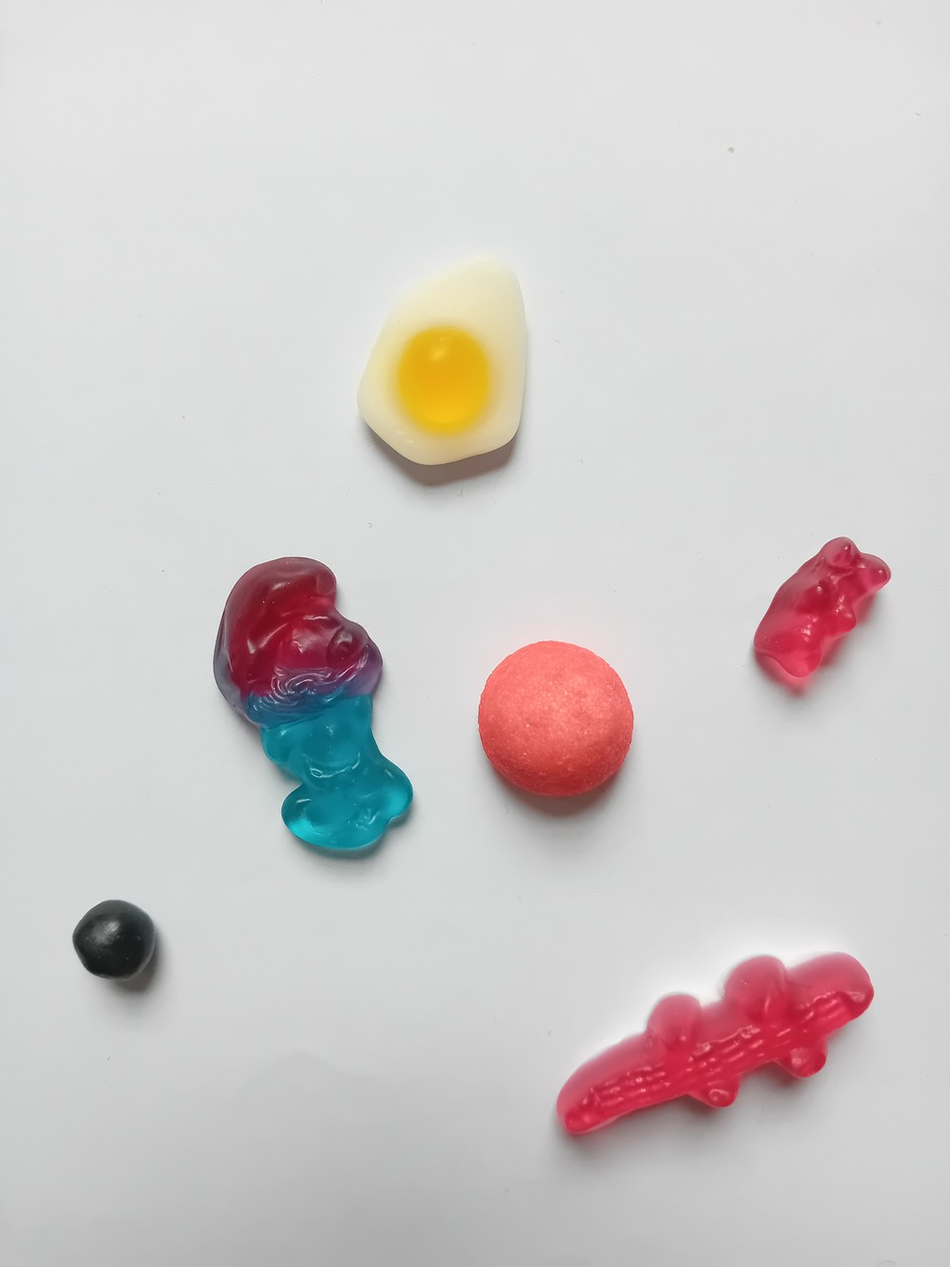crocodile_rouge: (547, 941, 878, 1143)
dragibus_noir: (61, 885, 158, 984)
oeuf_oeuf: (333, 247, 542, 475)
ourson_rouge: (745, 526, 892, 687)
schtroumpf_bleu-rouge: (202, 553, 419, 862)
tagada_fraise: (468, 634, 641, 803)
